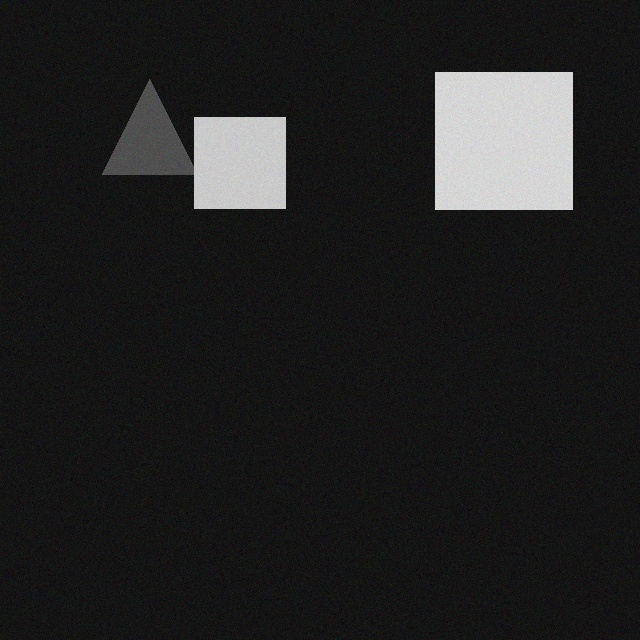square: (450, 61, 587, 198), (209, 106, 300, 197)
triangle: (117, 68, 212, 163)
